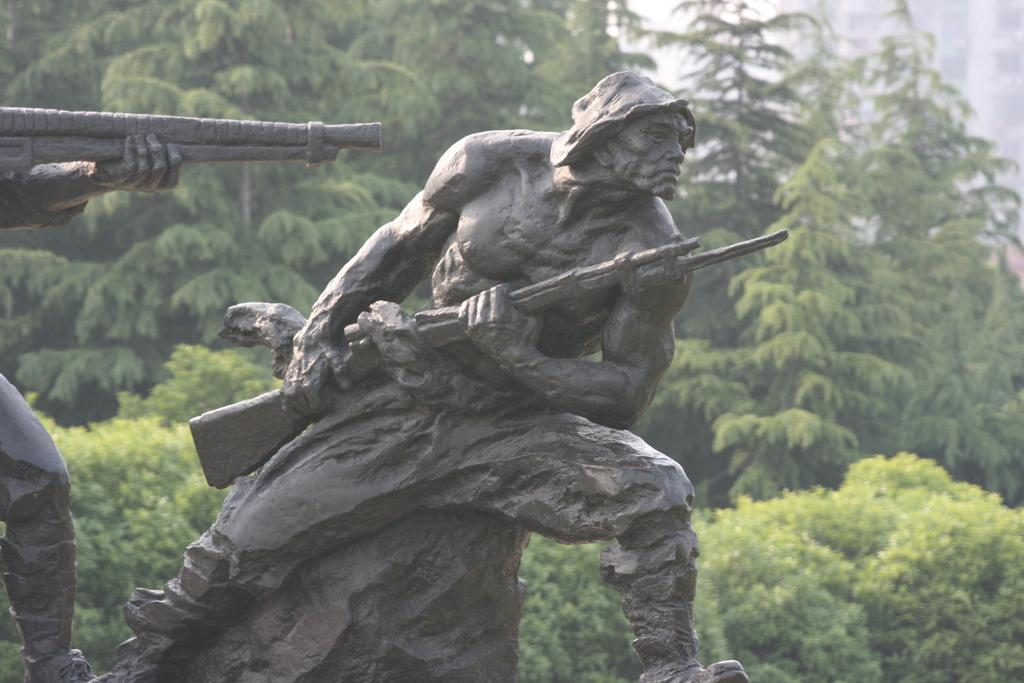Rifle: (179, 225, 792, 498), (1, 86, 414, 243)
